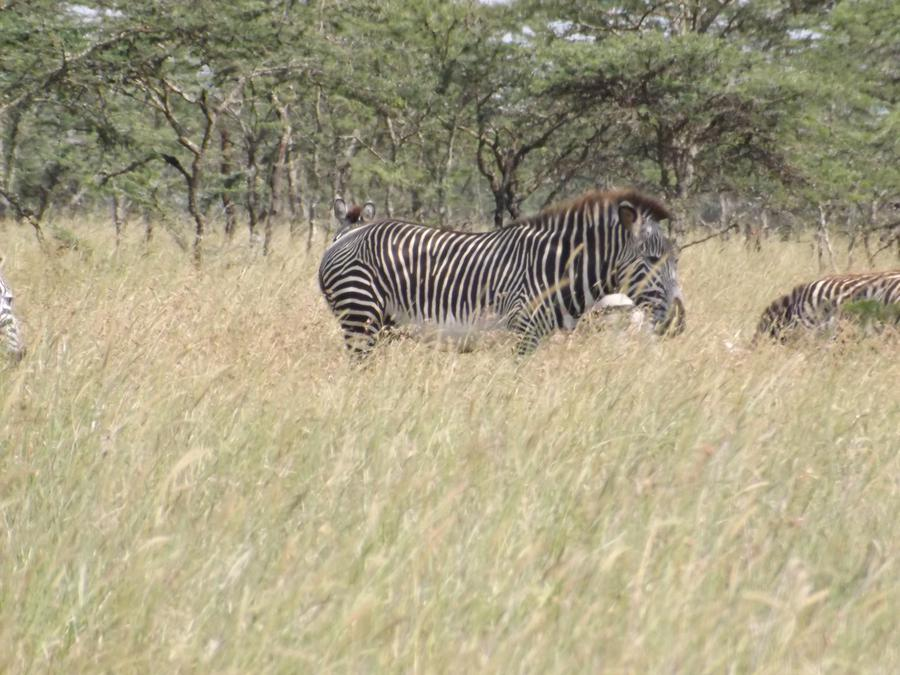zebra_grevys: (329, 221, 556, 332)
